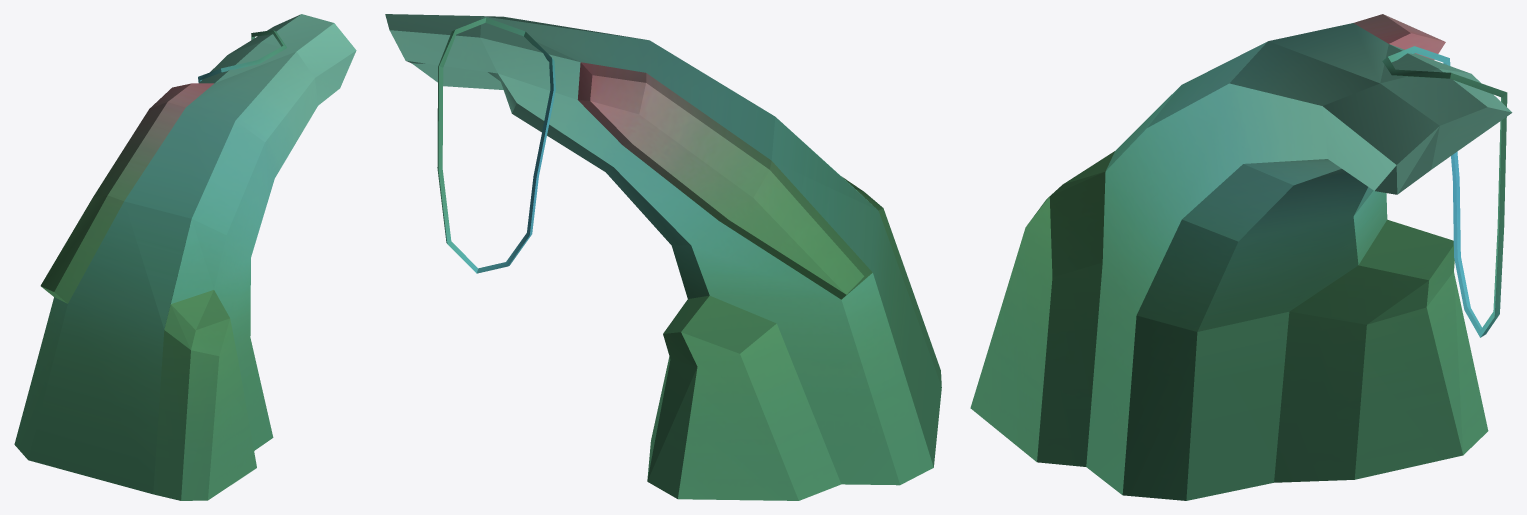
Rendered from yd 1stone4.obj.
3 renders of one model, left to right at view 1: azimuth 30°, elevation 25°; view 2: azimuth 150°, elevation 25°; view 3: azimuth 270°, elevation 25°, orthographic. The views are drawn at different scales.
Visible parts, largest first — view 1: Cliffe_lush_(2); view 2: Cliffe_lush_(2); view 3: Cliffe_lush_(2).
Part boxes in pixels (<box>): Cliffe_lush_(2): <box>14,14,356,500</box>; Cliffe_lush_(2): <box>385,14,941,500</box>; Cliffe_lush_(2): <box>970,14,1512,500</box>.
Bounding box in the file's own units: 2641 × 2093 × 2039.
